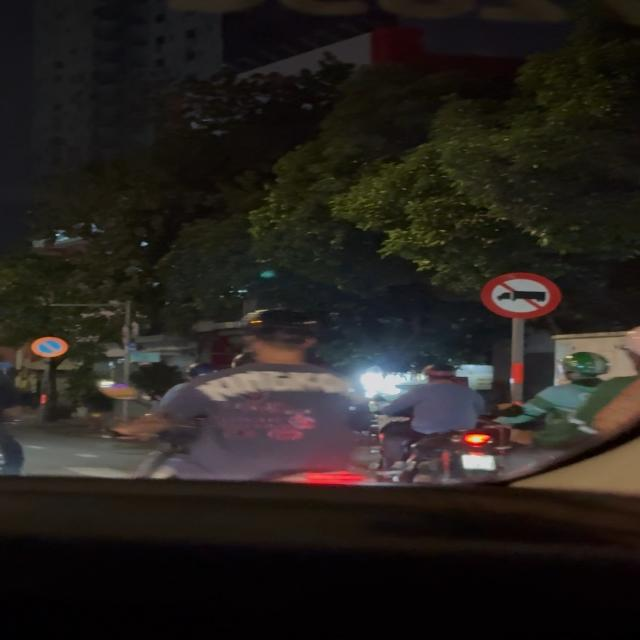Bien bao cam do xe: (28, 333, 72, 360)
Bien bao cam xe so-mi ro-mooc: (478, 271, 566, 321)
